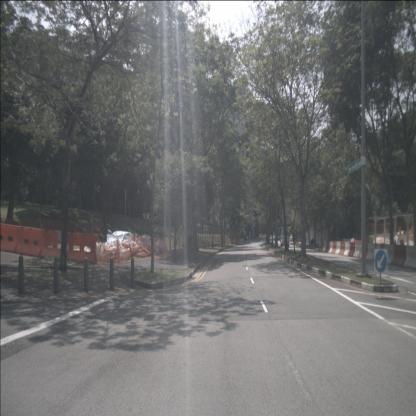barrier: (64, 232, 99, 265), (15, 226, 47, 258), (38, 230, 68, 262), (0, 223, 23, 252), (392, 245, 408, 266), (380, 244, 396, 264), (403, 246, 416, 269), (359, 242, 370, 259), (366, 244, 376, 261), (373, 244, 382, 262), (343, 241, 352, 256), (354, 242, 362, 258), (348, 242, 356, 257), (339, 241, 347, 256), (335, 241, 342, 255), (331, 241, 338, 254), (322, 242, 328, 253), (329, 242, 334, 254), (326, 242, 330, 253), (320, 242, 324, 251)
